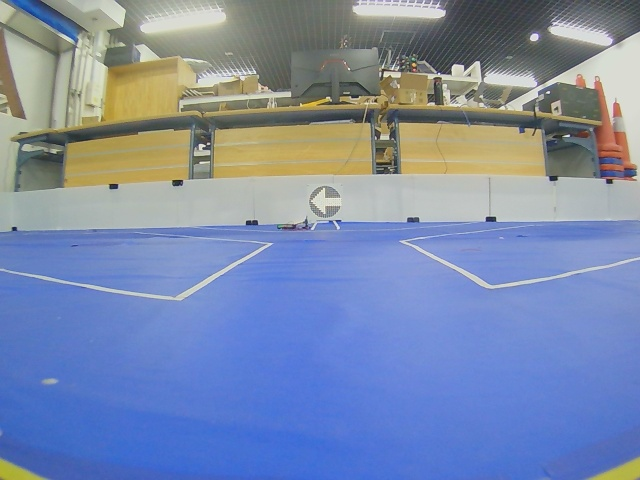left_yellow: (309, 186, 342, 218)
